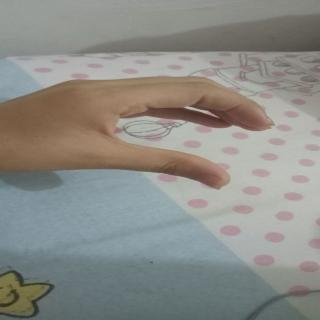JEEM: (17, 54, 274, 188)
